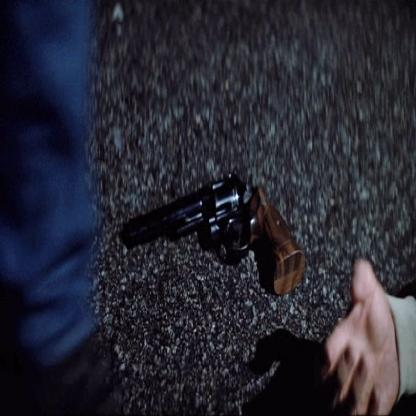gun: (114, 152, 313, 298)
